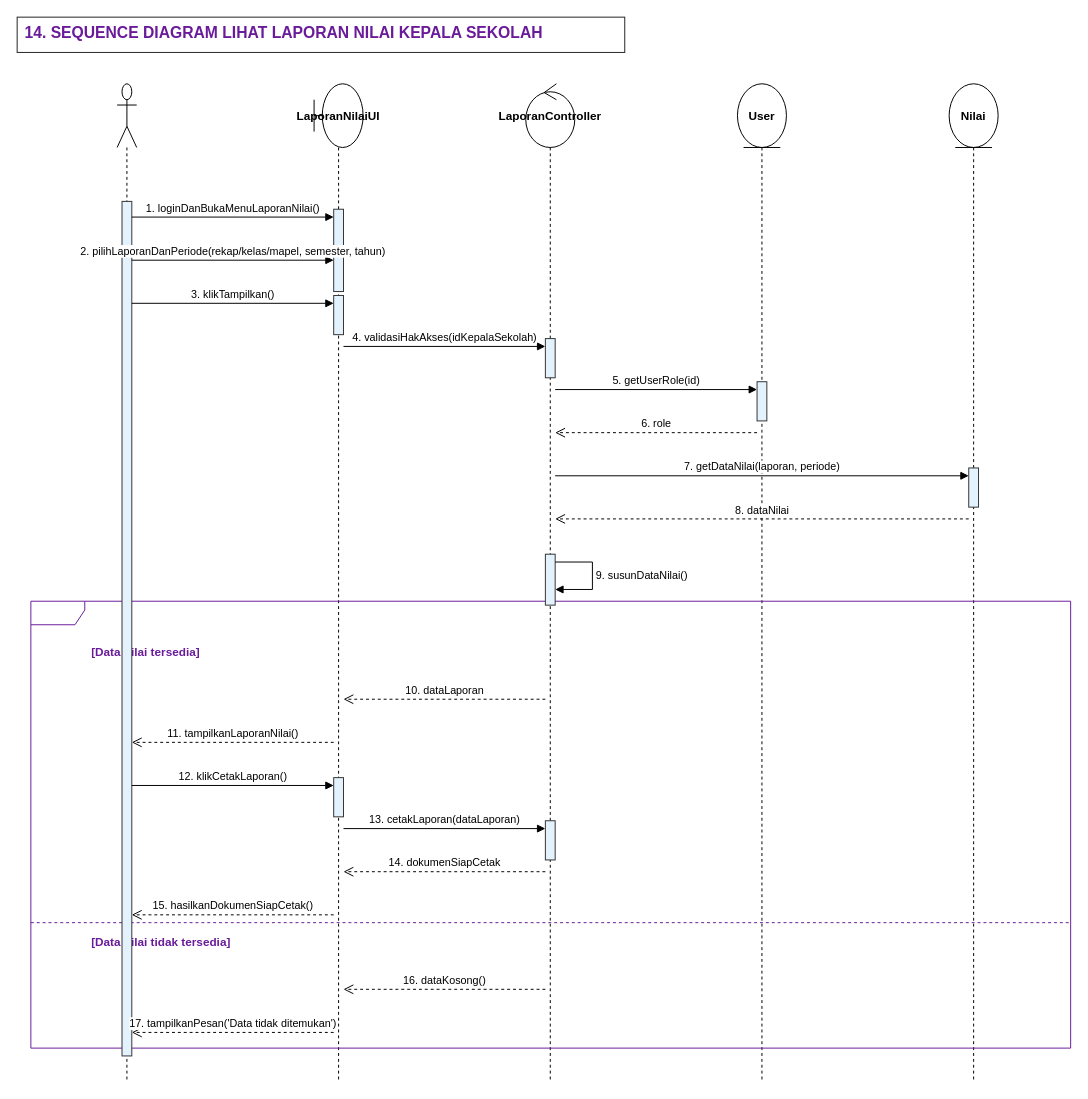
This 1088x1099 diagram has some shape labels left out. Here are the shapes that lost their labels. From the top down, the box of each, then its label:
(116, 83, 137, 1081): Kepala Sekolah
(30, 600, 1071, 1048): alt
